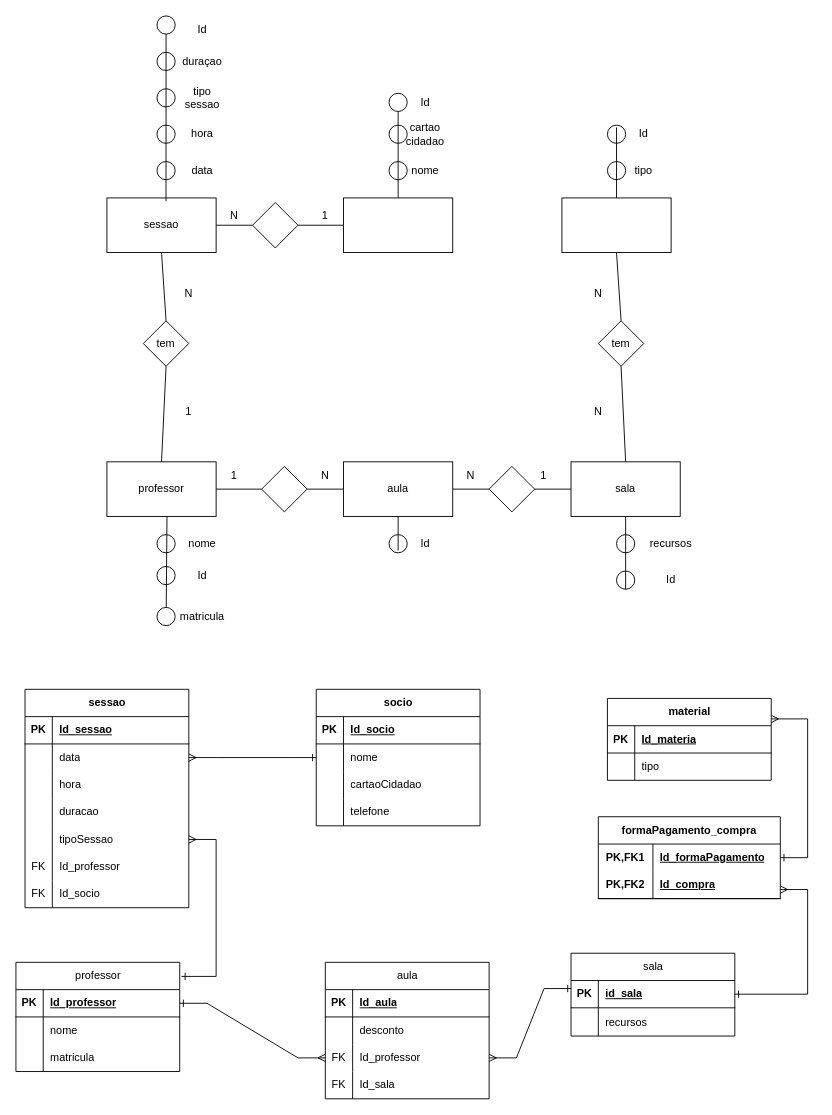
Some shapes in this 832 by 1115 pixel diagram are drawn without their labels. Each missing label, with the centre of its shape:
"dada" goes at point 511,488.
"faz" goes at point 275,225.
"materiais" goes at point 616,225.
"ministra" goes at point 284,488.
"socios" goes at point 398,225.
